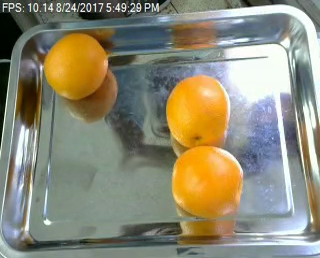Orange: (171, 145, 244, 218), (42, 31, 110, 101), (167, 75, 230, 150)
